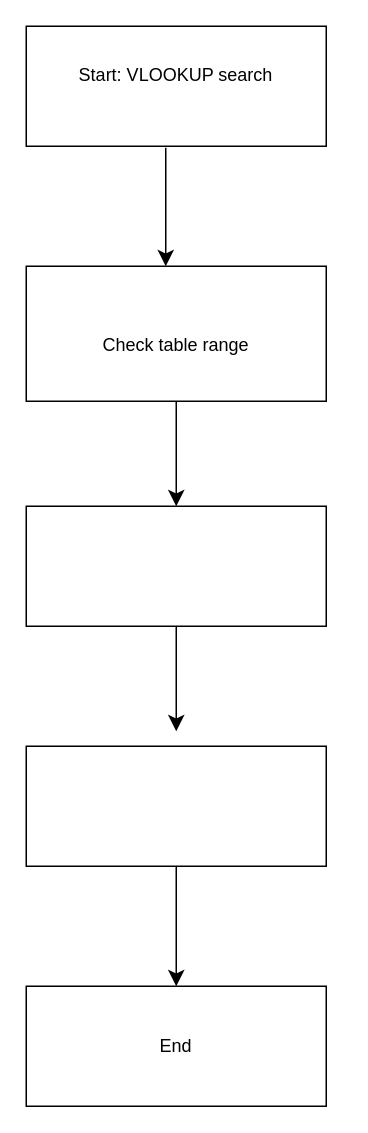
The diagram is 368 pixels wide and 1133 high, and some of its shapes have lost their labels. Here are the shapes that lost their labels. From the top down, the box of each, then its label:
(25, 505, 326, 626): Match column
(25, 745, 326, 866): Return value
